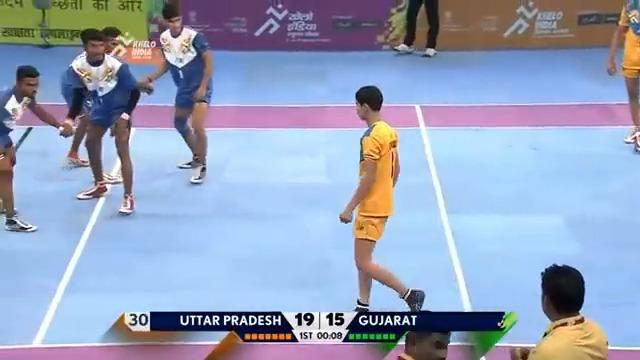Player: (60, 27, 144, 215), (136, 1, 213, 184), (525, 262, 609, 359), (605, 0, 639, 152), (392, 0, 439, 56)
Raider: (338, 84, 425, 312)
referee: (0, 64, 72, 232)
